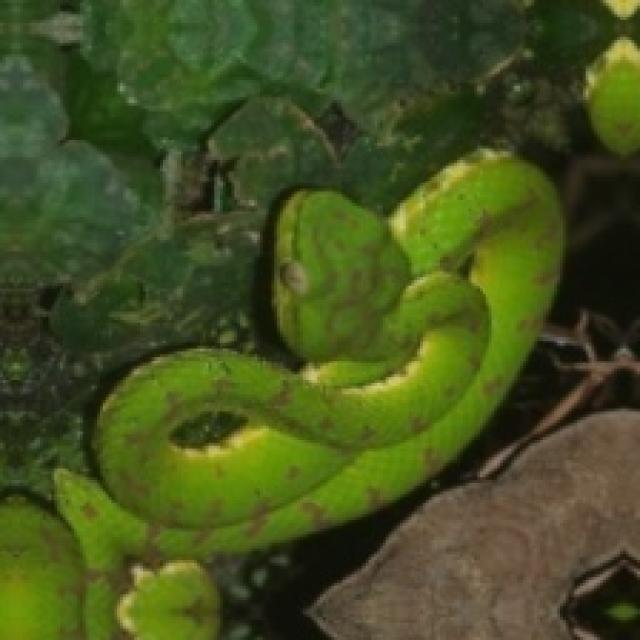philippine pitviper: (0, 151, 560, 637), (60, 151, 560, 569)
